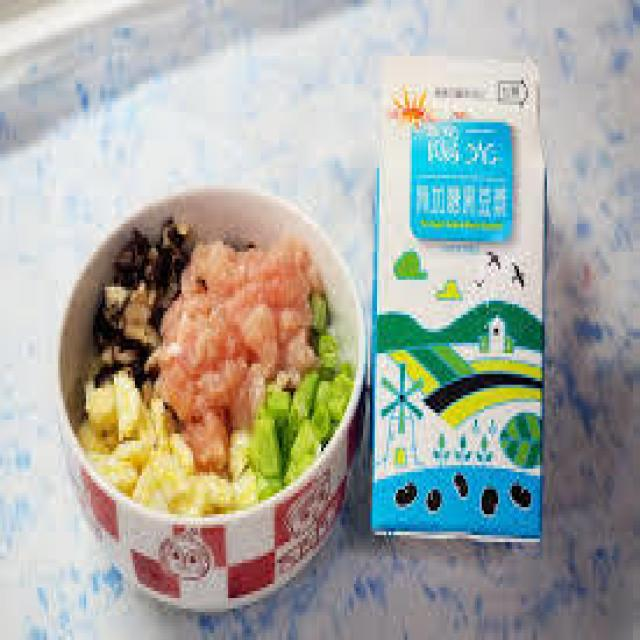TongYi_UnsweetenedBlackSoyMilk: (370, 48, 549, 541)
